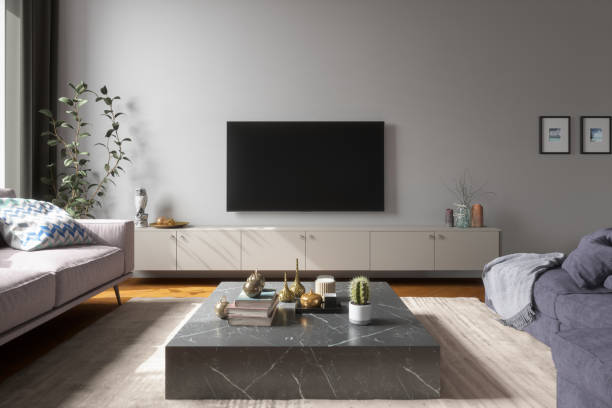TV: (224, 118, 386, 213)
TV stand: (132, 224, 504, 279)
large plant: (34, 79, 130, 215)
small plant: (346, 274, 374, 328)
sofa: (0, 185, 136, 353)
table: (163, 277, 444, 396)
wall art: (578, 113, 611, 156), (538, 114, 571, 155)
